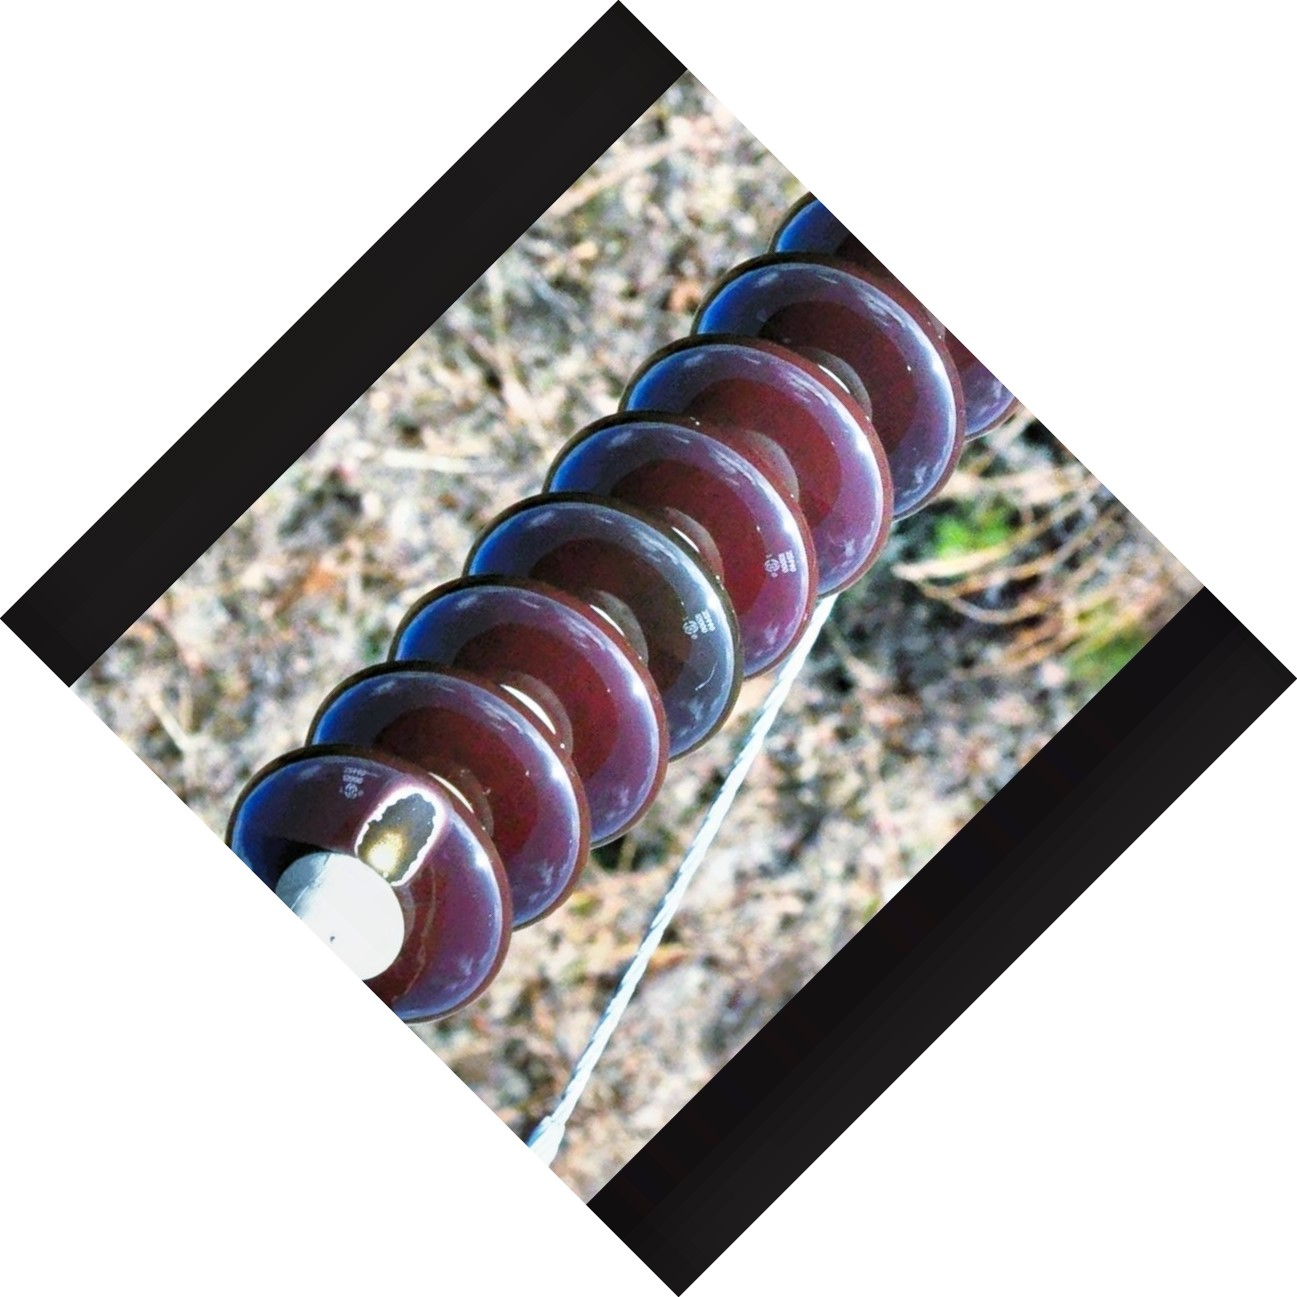Insulator flashover: (200, 736, 527, 1036)
